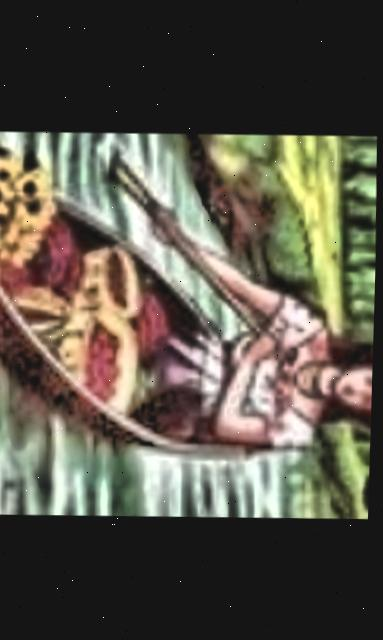La Chalupa: (0, 124, 380, 523)
